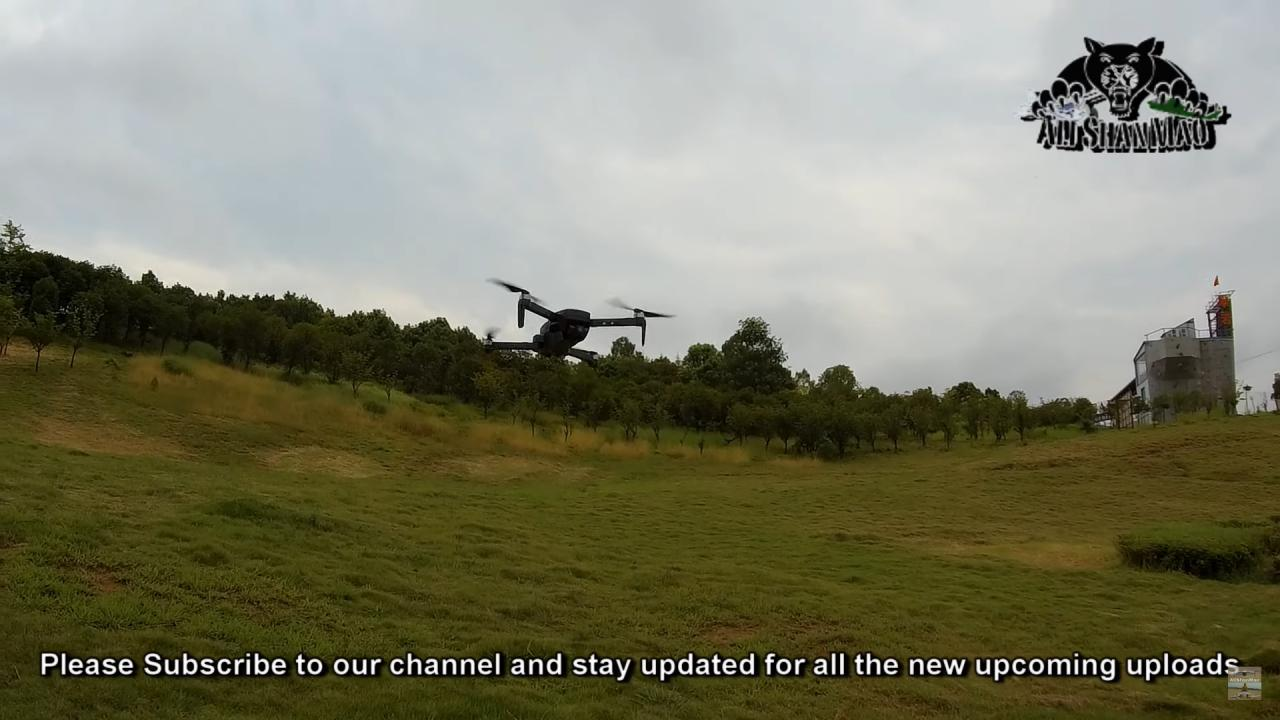Drone: (464, 269, 689, 385)
